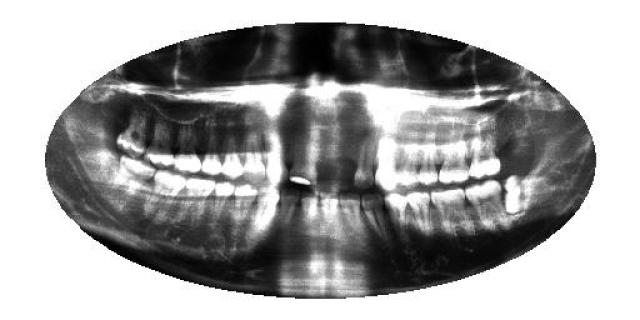Restorations: (505, 174, 557, 218)
